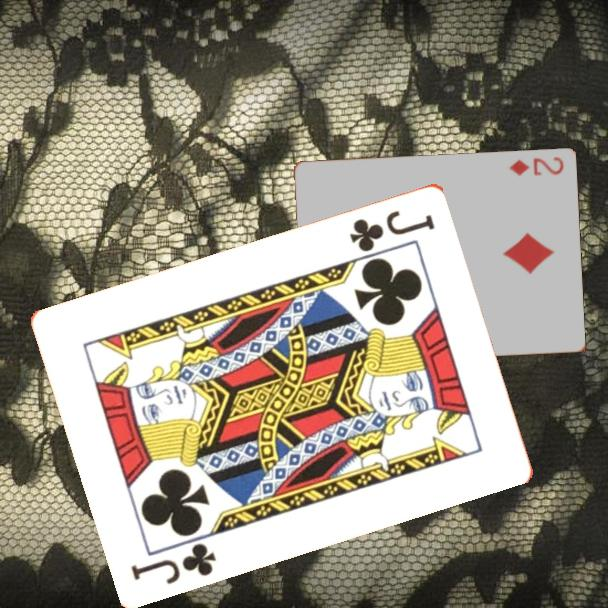c11: (346, 206, 439, 254), (127, 539, 220, 587)
d02: (506, 153, 566, 179)
